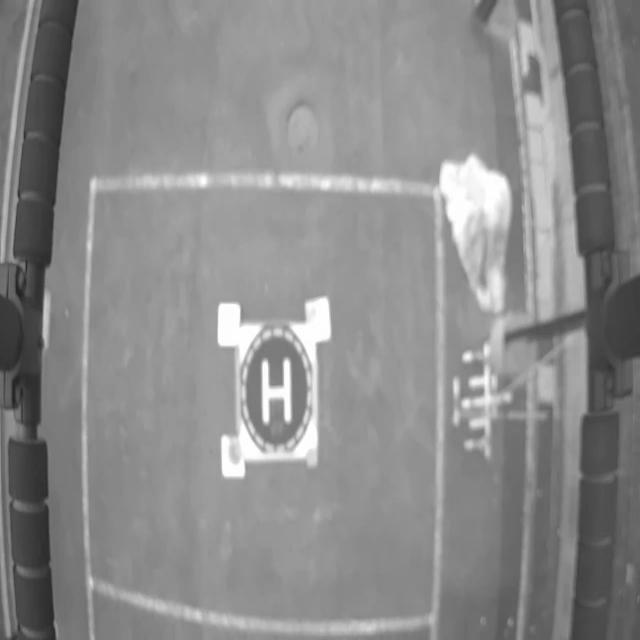Helipad: (261, 355, 291, 425)
